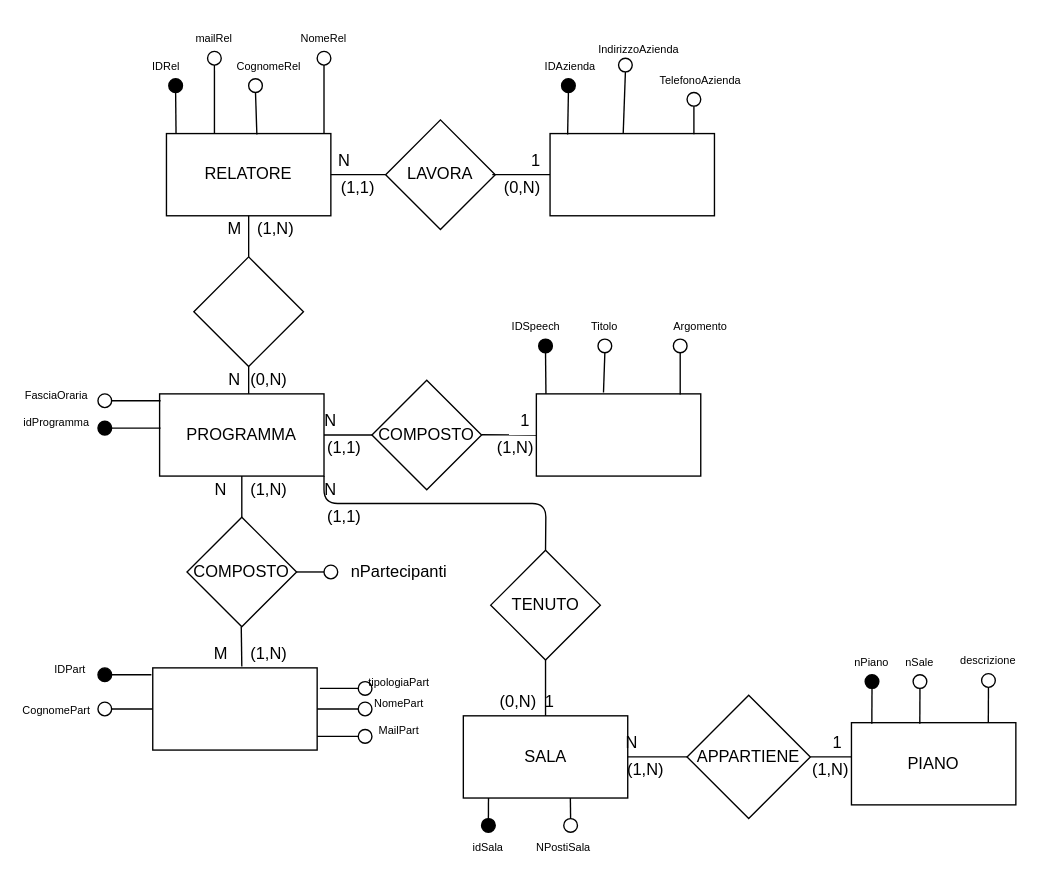
Some shapes in this 1040 by 882 pixel diagram are drawn without their labels. Here are the shapes that lost their labels. From the top down, the centre of each, then its label:
the point at 631,174: AZIENDA
the point at 247,311: RELAZIONA
the point at 618,434: SPEECH
the point at 234,708: PARTECIPANTE
